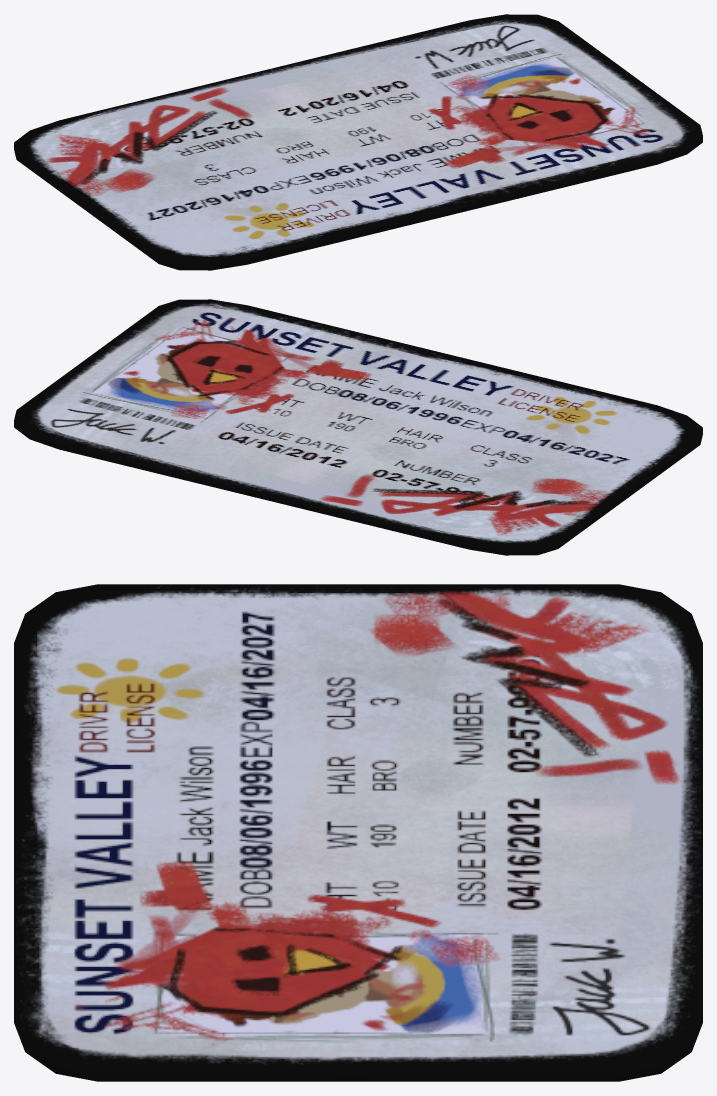
File: ID card.glb
The picture shows the model from 3 angles, top to bottom: view 1: azimuth 30°, elevation 25°; view 2: azimuth 150°, elevation 25°; view 3: azimuth 270°, elevation 25°; orthographic projection. The views are drawn at different scales.
Parts seen in each view (by area): view 1: IDcard; view 2: IDcard; view 3: IDcard.
Boxes of the visible parts, x1,y1,x2,y2 form: IDcard: [14, 14, 702, 270]; IDcard: [14, 299, 702, 555]; IDcard: [14, 584, 702, 1081].
Bounding box in the file's own units: 0.3736 × 0.00456 × 0.2244.
Materials: 1 (1 with a texture image).
